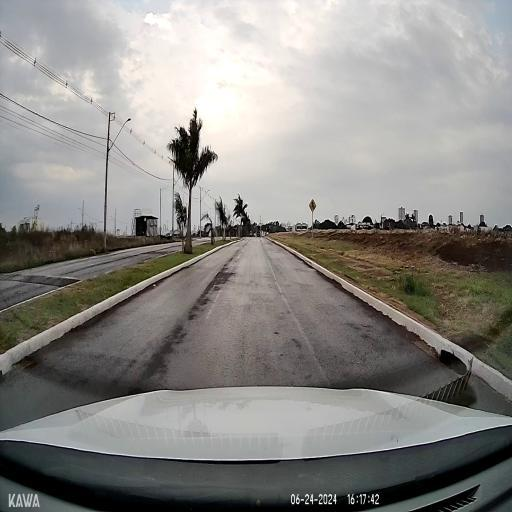A-32b: (308, 198, 316, 212)
